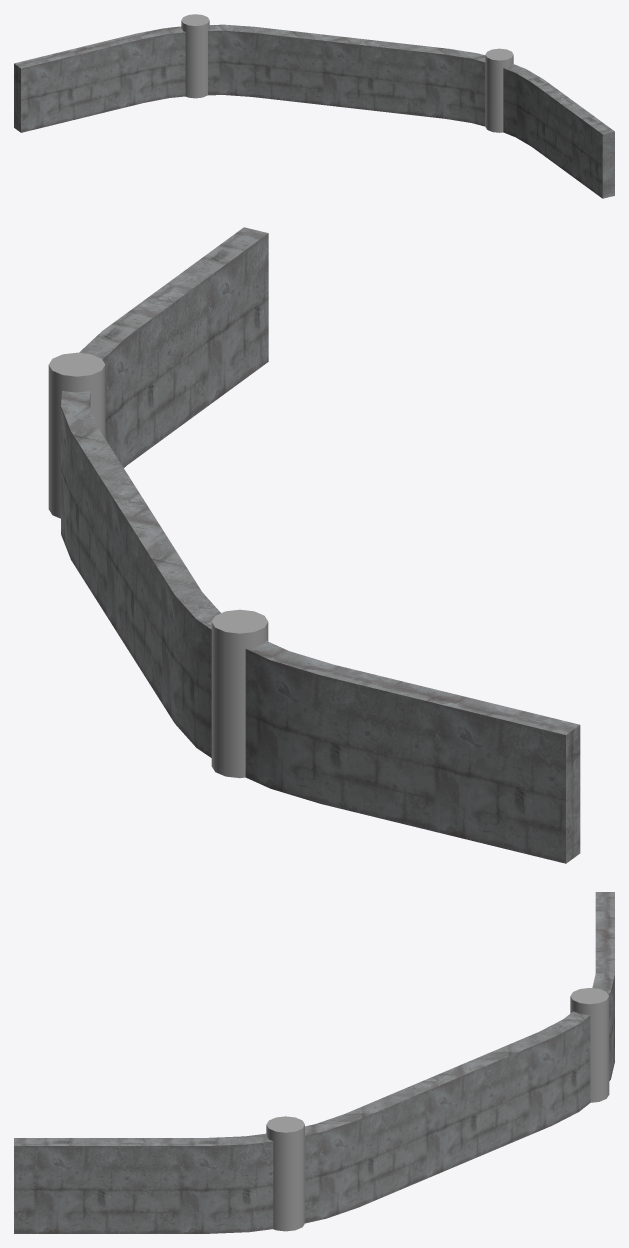
File: Corner_wall_01_05.fbx
3 renders of one model, top to bottom at view 1: azimuth 30°, elevation 25°; view 2: azimuth 150°, elevation 25°; view 3: azimuth 270°, elevation 25°, orthographic. The views are drawn at different scales.
Parts seen in each view (by area): view 1: Corner_wall_01_05; view 2: Corner_wall_01_05; view 3: Corner_wall_01_05.
Boxes of the visible parts, left/top/right/bottom form: Corner_wall_01_05: left=14, top=14, right=614, bottom=198; Corner_wall_01_05: left=48, top=227, right=580, bottom=863; Corner_wall_01_05: left=14, top=892, right=614, bottom=1233.
Bounding box in the file's own units: 620 × 112 × 620.
